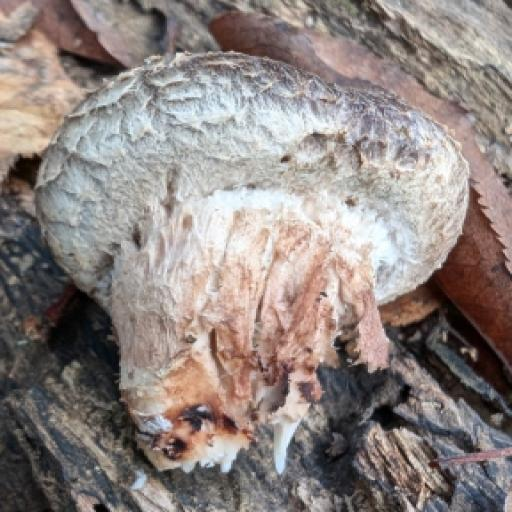Shiitake Mushroom: (0, 0, 494, 491)
